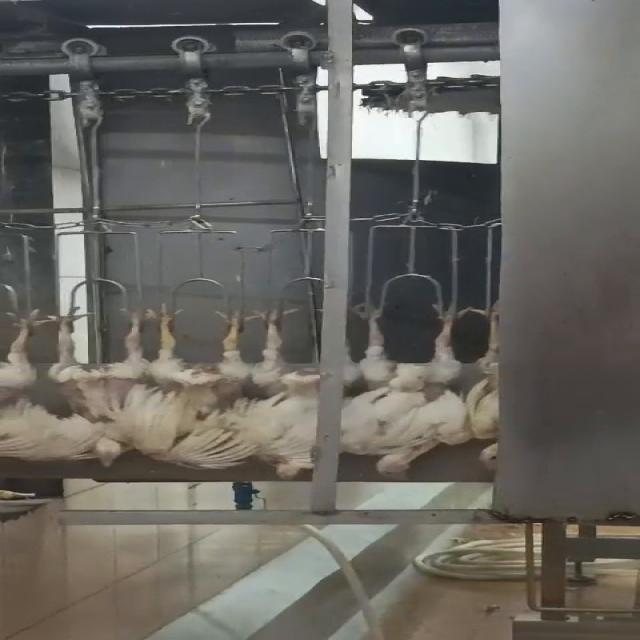chicken: (340, 304, 478, 485), (144, 306, 253, 474), (64, 307, 160, 471), (244, 302, 326, 484), (0, 307, 69, 467), (473, 298, 515, 474)
